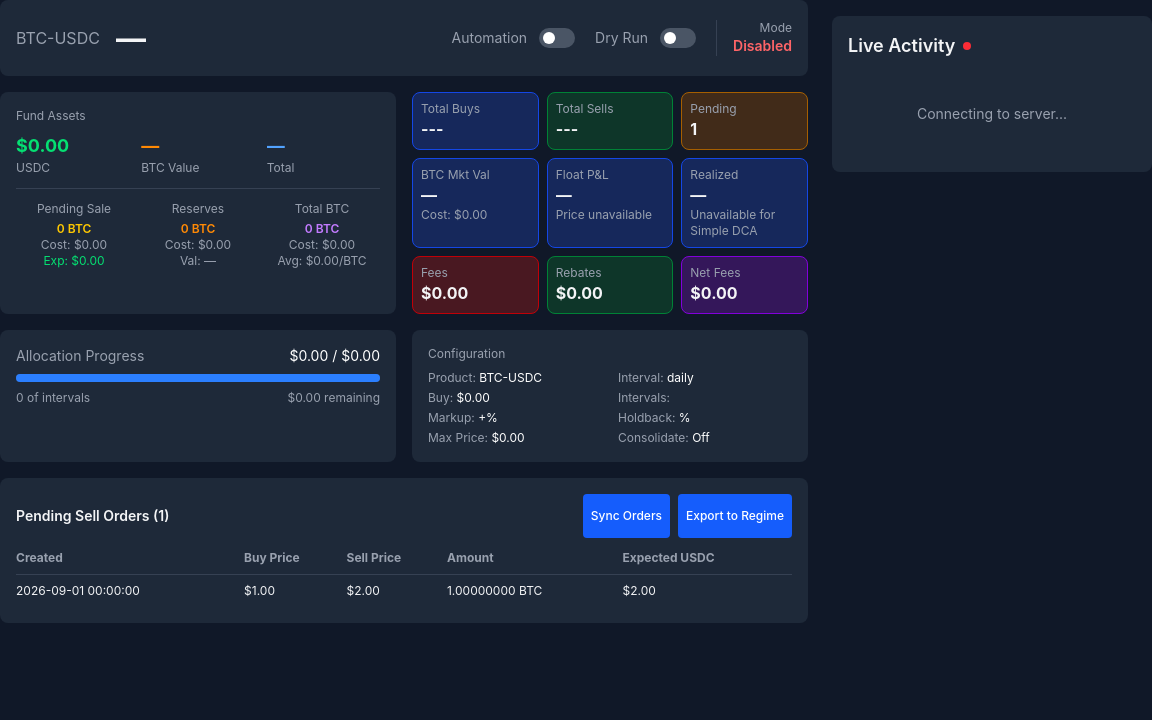
Test: renders the DCA Export to Regime confirmation through the shared modal dialog
What coordinates should you click on to do the following:
click the button "Export to Regime"
I would click on:
 (735, 516)
Its box is x1=678 y1=494 x2=792 y2=538.
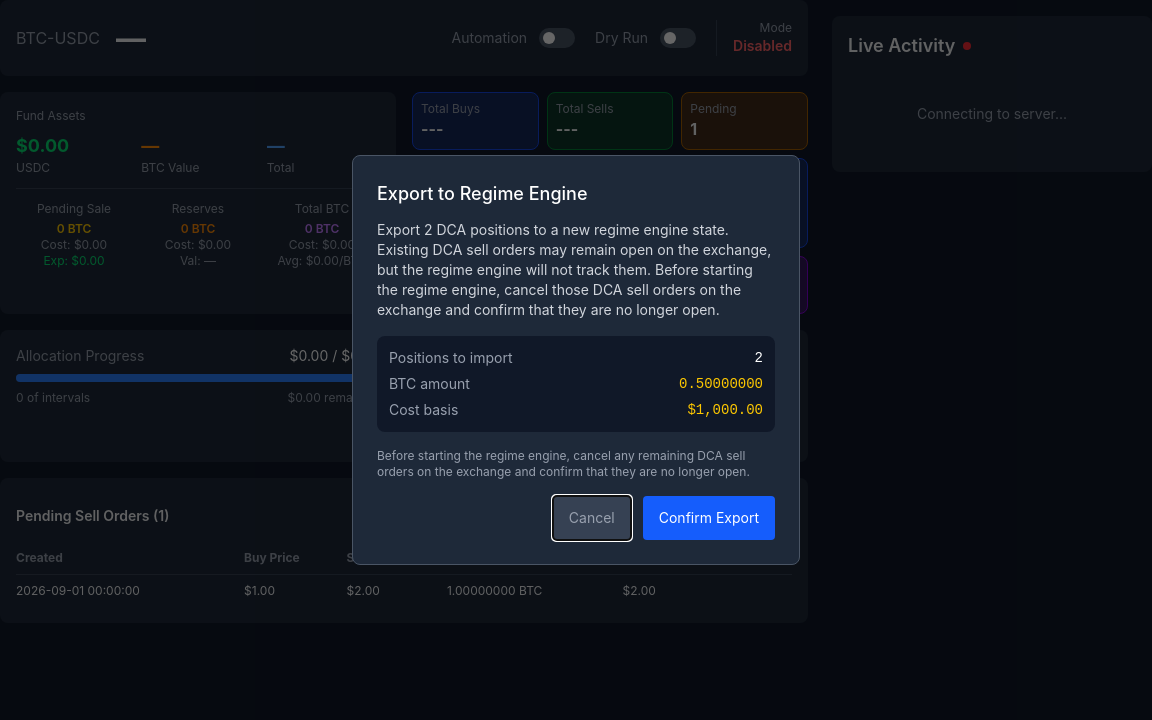
Expected: the button "Confirm Export" is shown, x1=643 y1=496 x2=775 y2=540
What coordinates should you click on to do the following:
click the button "Cancel"
I would click on:
 (592, 518)
Its box is x1=553 y1=496 x2=631 y2=540.
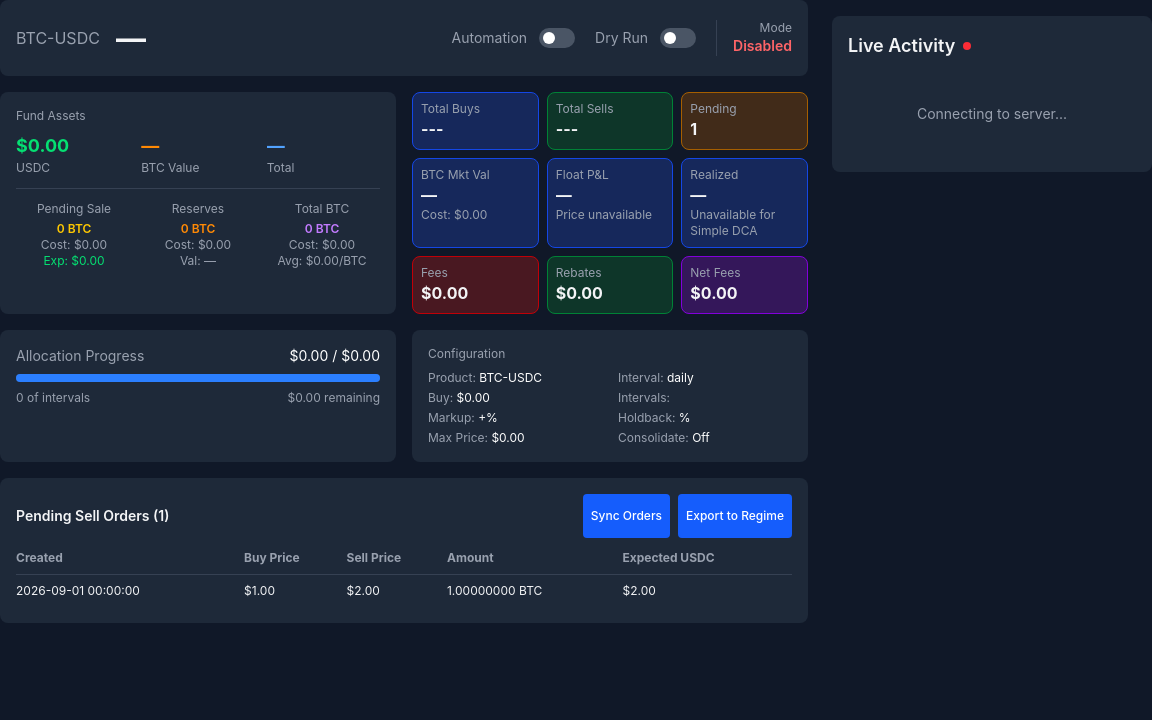
Expected: the dialog is gone
